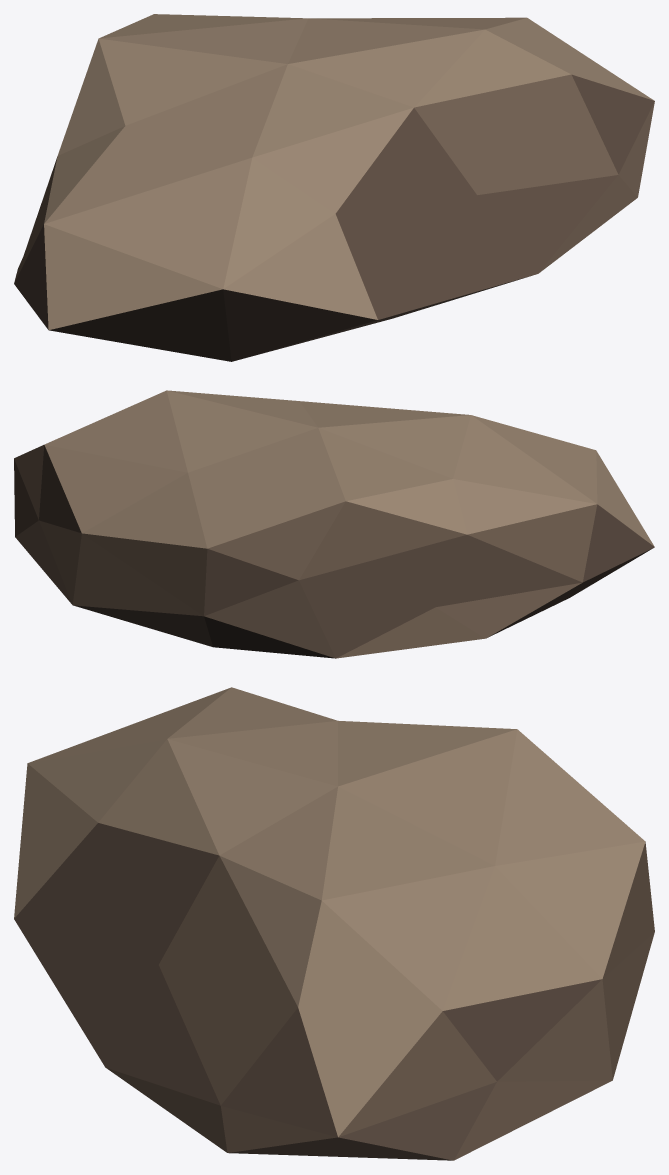
The model's file is kamen-maly-3.glb.
The picture shows the model from 3 angles, top to bottom: view 1: azimuth 30°, elevation 25°; view 2: azimuth 150°, elevation 25°; view 3: azimuth 270°, elevation 25°; orthographic projection. The views are drawn at different scales.
Parts seen in each view (by area): view 1: kamen-maly-3; view 2: kamen-maly-3; view 3: kamen-maly-3.
Boxes of the visible parts, box(x1,y1,x2,y2) form: kamen-maly-3: box(14, 14, 654, 361); kamen-maly-3: box(14, 390, 654, 658); kamen-maly-3: box(14, 687, 654, 1160).
Size of the model in its own units: 1.12 by 0.2661 by 0.783.
